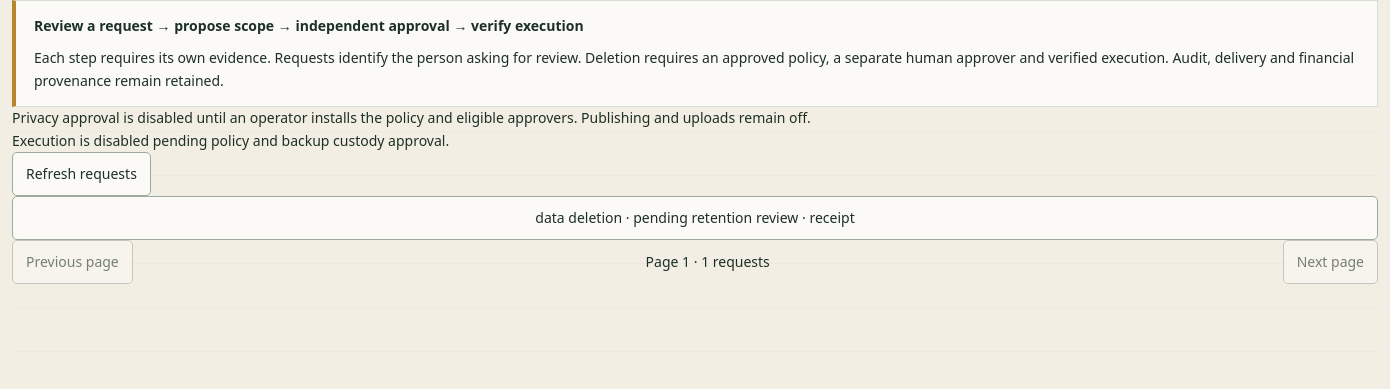
Test: disabled controls give no execution promise and expose receipt review
Expected: the text "Privacy approval is disabled" is shown, [12,108,811,127]
What coordinates should you click on to do the following:
click the button "data deletion · pending retention review · receipt"
I would click on:
 (695, 218)
Its box is [12,196,1378,240].
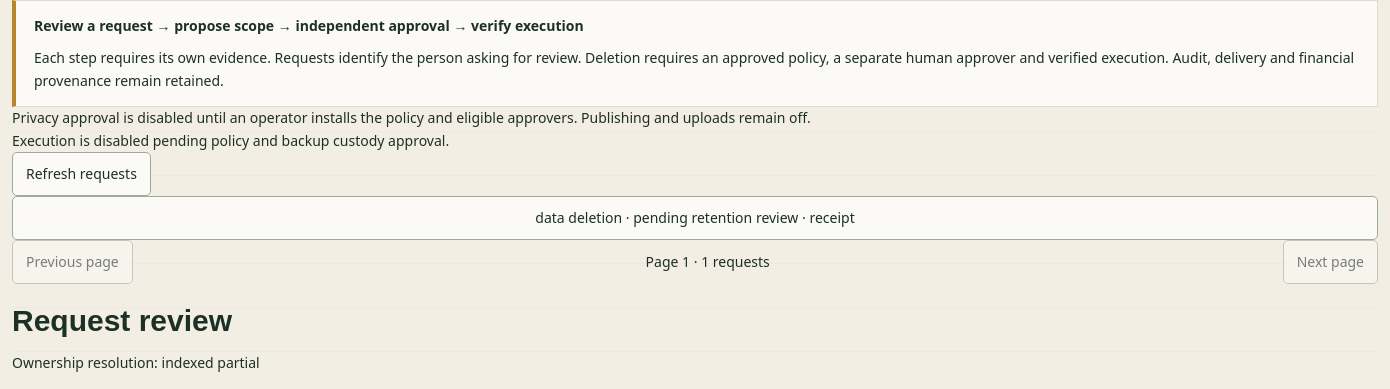
Expected: the heading "Request review" is shown, [12,304,232,337]
